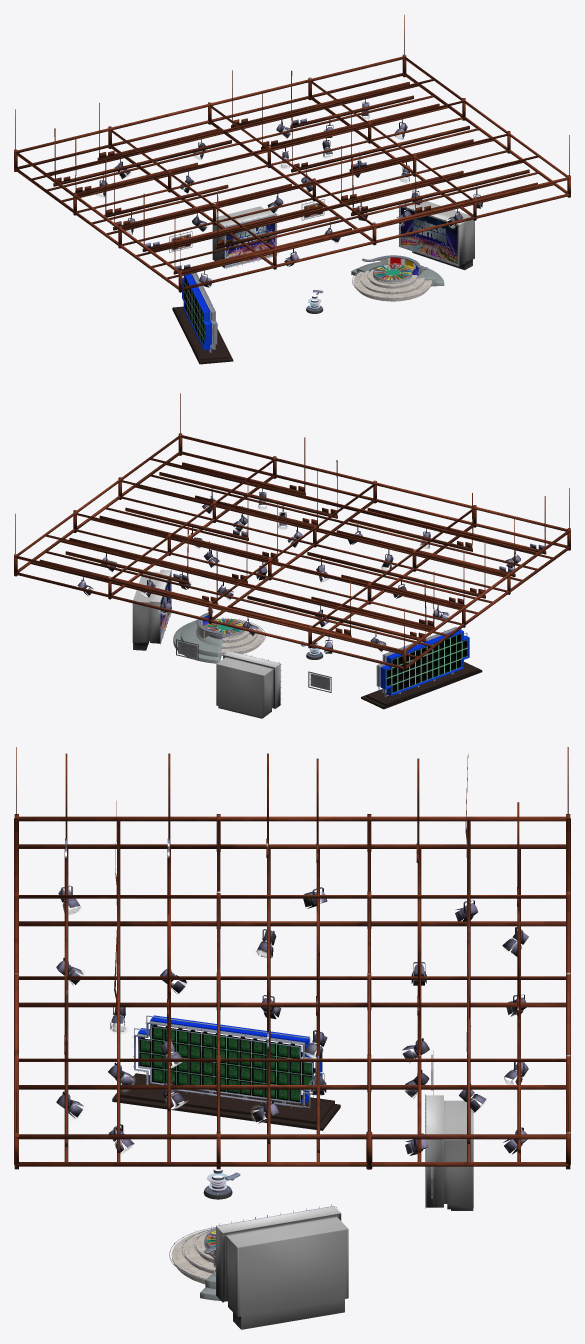
File: wof_base.glb
3 renders of one model, top to bottom at view 1: azimuth 30°, elevation 25°; view 2: azimuth 150°, elevation 25°; view 3: azimuth 270°, elevation 25°, orthographic. The views are drawn at different scales.
Visible parts, largest first — view 1: light_rigShape:1, light_rigShape:0, screen_big_swfShape, wheel_baseShape, screen_big_frameShape:0, letterboard_platformShape, screen_center_swfShape, screen_center_frameShape:0, letterboard_mainShape:2, letterboard_mainShape:3, podium_stepsShape, wheel_swfShape (+1 smaller); view 2: light_rigShape:1, screen_center_frameShape:0, light_rigShape:0, letterboard_mainShape:2, screen_big_frameShape:0, letterboard_platformShape, podium_stepsShape, letterboard_mainShape:1, letterboard_mainShape:3, wheel_baseShape; view 3: light_rigShape:1, screen_big_frameShape:0, light_rigShape:0, screen_center_frameShape:0, puzzleboard_swfShape, letterboard_platformShape, letterboard_mainShape:2, letterboard_mainShape:0, wheel_baseShape, letterboard_mainShape:1, letterboard_mainShape:3, light_glowsShape (+1 smaller).
Boxes of the visible parts, x1,y1,x2,y2 form: light_rigShape:1: [14, 14, 570, 292]; light_rigShape:0: [96, 99, 482, 287]; screen_big_swfShape: [401, 207, 457, 263]; wheel_baseShape: [353, 269, 431, 301]; screen_big_frameShape:0: [400, 199, 474, 270]; letterboard_platformShape: [172, 306, 233, 364]; screen_center_swfShape: [226, 216, 274, 265]; screen_center_frameShape:0: [212, 206, 276, 267]; letterboard_mainShape:2: [183, 275, 211, 345]; letterboard_mainShape:3: [182, 274, 211, 350]; podium_stepsShape: [351, 261, 444, 286]; wheel_swfShape: [374, 264, 410, 280]; light_rigShape:1: [14, 393, 570, 671]; screen_center_frameShape:0: [216, 651, 280, 718]; light_rigShape:0: [77, 488, 544, 653]; letterboard_mainShape:2: [386, 634, 467, 692]; screen_big_frameShape:0: [132, 569, 170, 650]; letterboard_platformShape: [361, 662, 482, 709]; podium_stepsShape: [173, 620, 222, 663]; letterboard_mainShape:1: [386, 633, 467, 693]; letterboard_mainShape:3: [380, 629, 469, 695]; wheel_baseShape: [221, 620, 264, 655]; light_rigShape:1: [14, 747, 570, 1169]; screen_big_frameShape:0: [216, 1206, 348, 1329]; light_rigShape:0: [56, 838, 528, 1155]; screen_center_frameShape:0: [426, 1095, 473, 1210]; puzzleboard_swfShape: [141, 1027, 311, 1100]; letterboard_platformShape: [112, 1073, 340, 1130]; letterboard_mainShape:2: [139, 1024, 315, 1102]; letterboard_mainShape:0: [133, 1015, 322, 1108]; wheel_baseShape: [171, 1229, 215, 1284]; letterboard_mainShape:1: [139, 1027, 314, 1100]; letterboard_mainShape:3: [138, 1015, 321, 1103]; light_glowsShape: [68, 891, 516, 1156].
Bounding box in the file's own units: 2813 × 1195 × 2069.
38 materials, 38 textured.
